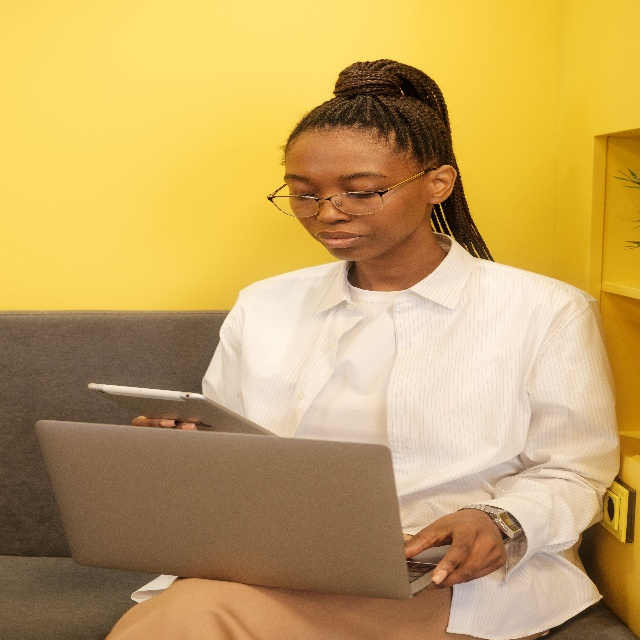Gafas: (267, 181, 384, 217)
Sin_guantes: (400, 507, 509, 583)
